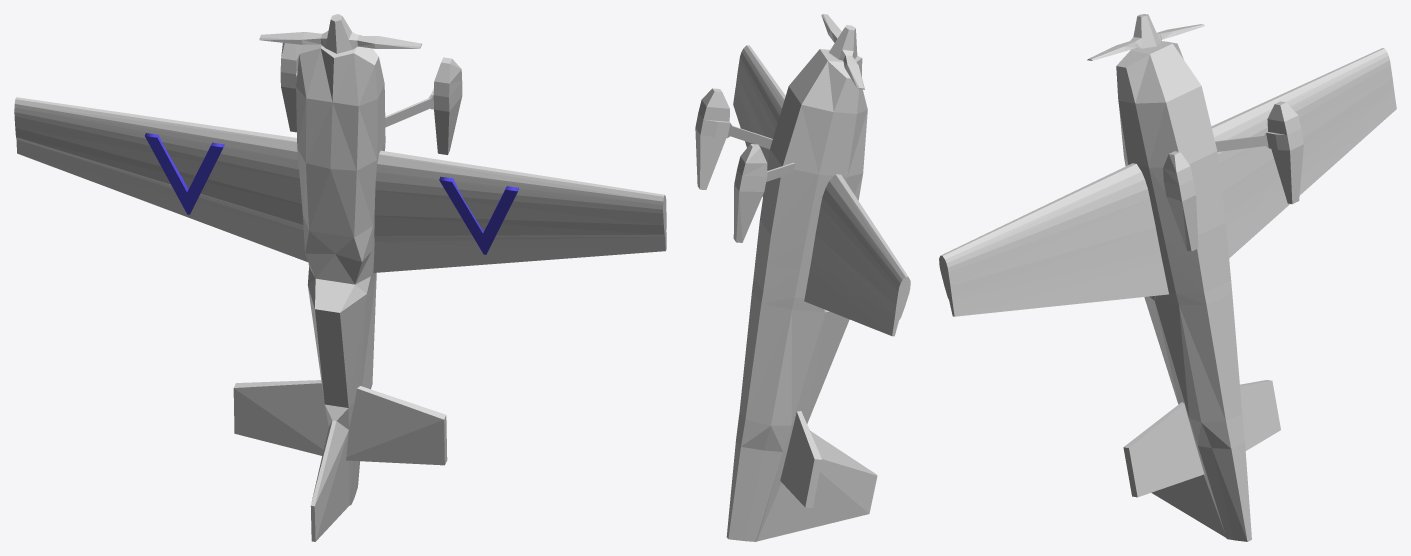
The picture shows the model from 3 angles, left to right: view 1: azimuth 30°, elevation 25°; view 2: azimuth 150°, elevation 25°; view 3: azimuth 270°, elevation 25°; orthographic projection. The views are drawn at different scales.
Parts seen in each view (by area): view 1: wing, body, rear-wing, landing-gear, propeller, V, V2; view 2: body, wing, landing-gear, rear-wing, propeller; view 3: wing, body, rear-wing, landing-gear, propeller.
Boxes of the visible parts, <box> form: wing: <box>14,97,666,272</box>; body: <box>296,30,385,541</box>; rear-wing: <box>233,380,447,465</box>; landing-gear: <box>280,43,462,154</box>; propeller: <box>259,14,421,53</box>; V: <box>145,133,224,214</box>; V2: <box>439,176,519,254</box>; body: <box>726,49,877,541</box>; wing: <box>733,45,910,336</box>; landing-gear: <box>695,88,795,242</box>; rear-wing: <box>780,411,821,508</box>; propeller: <box>821,14,864,89</box>; wing: <box>939,48,1396,316</box>; body: <box>1116,41,1251,541</box>; rear-wing: <box>1123,380,1280,497</box>; landing-gear: <box>1163,101,1303,251</box>; propeller: <box>1087,14,1204,60</box>.
Bounding box in the file's own units: 0.305 × 0.3704 × 0.3086.
